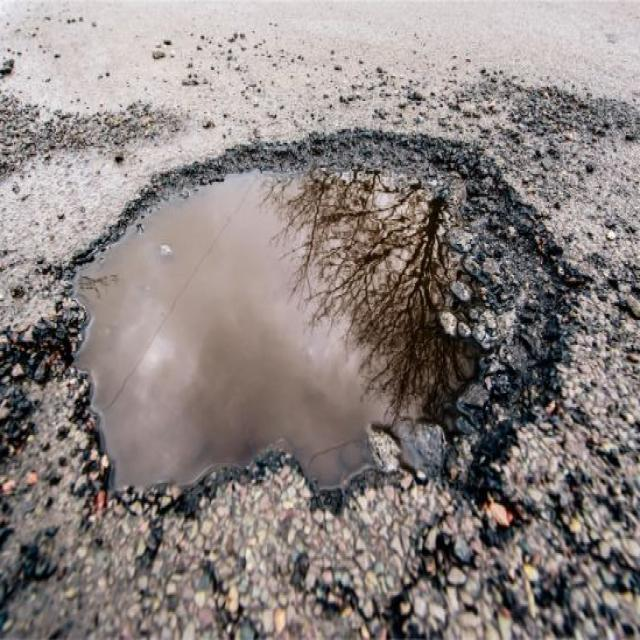pothole: (52, 118, 598, 528)
